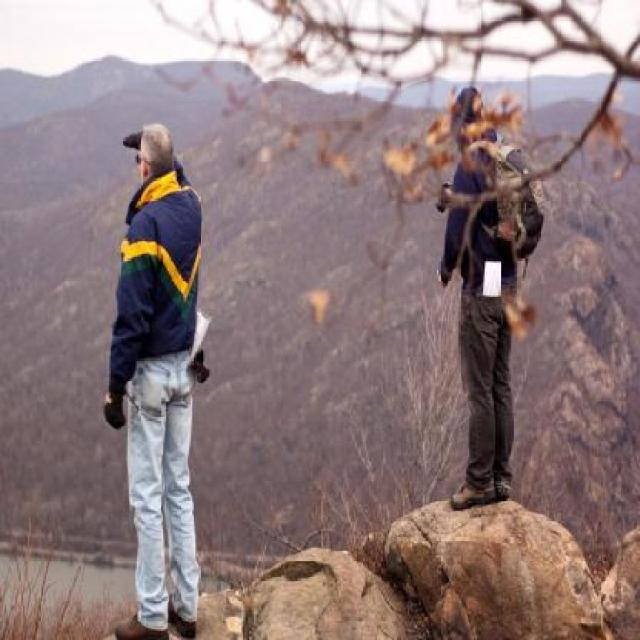backpack: (488, 129, 548, 266)
